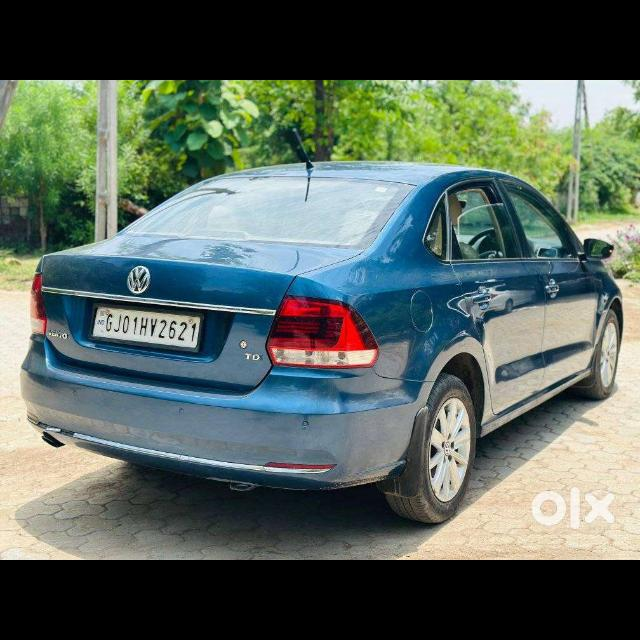number-plate: (91, 304, 202, 348)
vehicles: (10, 160, 624, 532)
